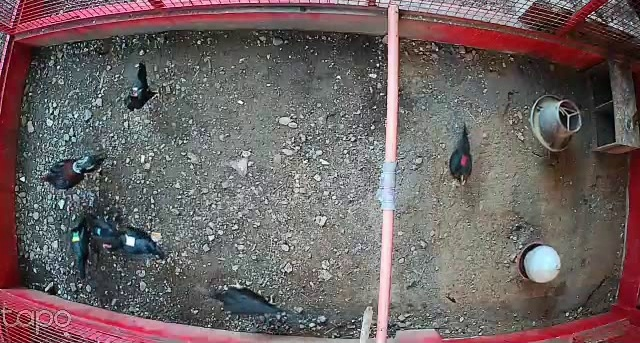Chicken: (205, 278, 289, 318), (120, 55, 169, 117), (444, 122, 479, 192), (102, 225, 166, 263), (67, 215, 93, 285), (85, 213, 128, 252)
Rooster: (35, 144, 113, 197)
Saddle_Color_Blue: (97, 228, 101, 235)
Saddle_Color_Red: (459, 154, 467, 167)
Saddle_Color_White: (125, 235, 137, 247)
Saddle_Color_YellowGreen: (72, 231, 82, 243)
